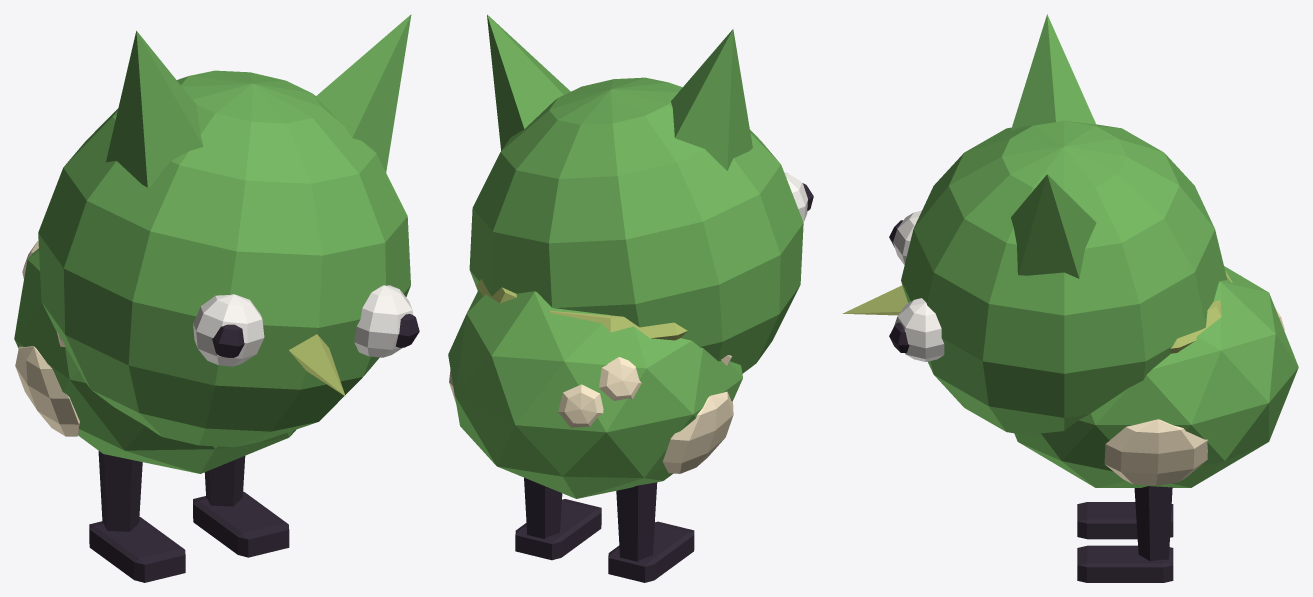
Rendered from bird-city-1.glb.
The picture shows the model from 3 angles, left to right: view 1: azimuth 30°, elevation 25°; view 2: azimuth 150°, elevation 25°; view 3: azimuth 270°, elevation 25°; orthographic projection. The views are drawn at different scales.
Parts seen in each view (by area): view 1: bird-city-1; view 2: bird-city-1; view 3: bird-city-1.
Part boxes in pixels (box(x1,y1,x2,y2)): bird-city-1: box(14, 14, 419, 582); bird-city-1: box(448, 14, 813, 582); bird-city-1: box(842, 14, 1298, 582).
Bounding box in the file's own units: 0.5544 × 0.9 × 0.7497.
